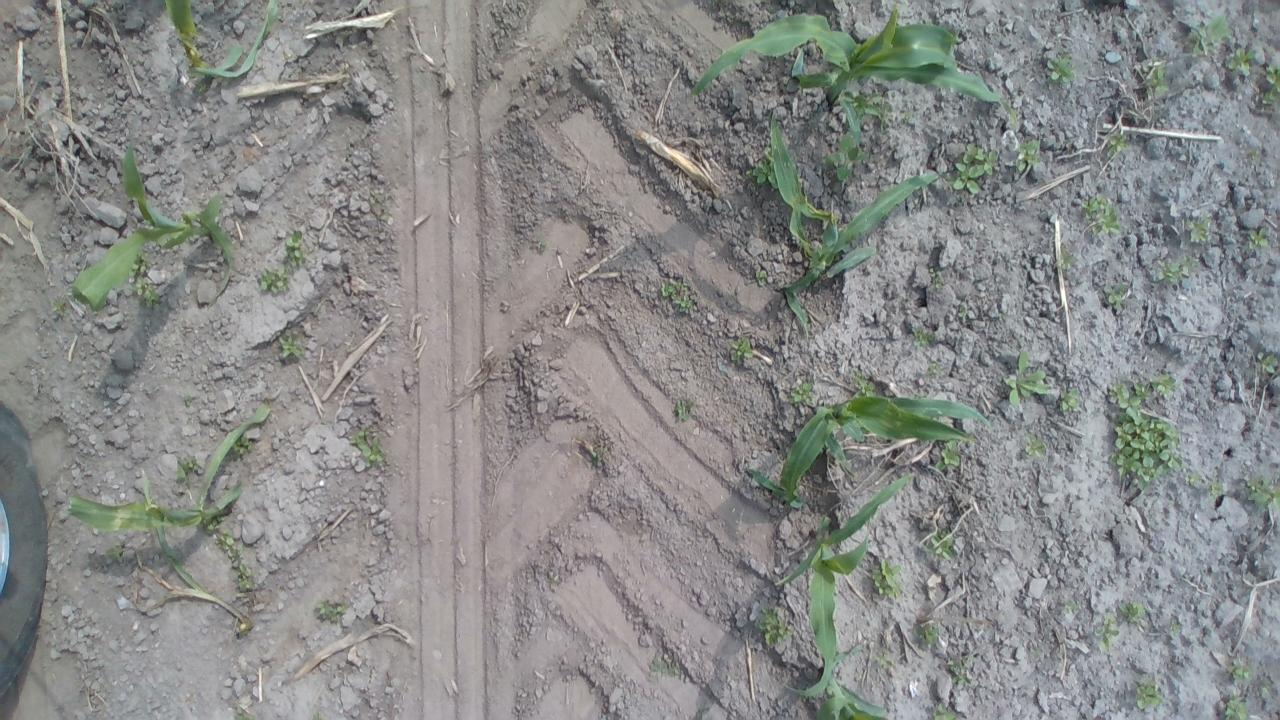Maize: (686, 6, 1030, 140), (761, 110, 946, 342), (65, 393, 274, 578), (775, 468, 921, 698), (62, 141, 249, 314), (752, 386, 998, 512), (158, 3, 284, 82), (804, 678, 898, 720)
Weeds: (1104, 371, 1186, 488), (1002, 350, 1051, 406), (854, 92, 920, 129), (952, 142, 998, 194), (826, 130, 870, 184), (1080, 192, 1122, 238), (1188, 17, 1234, 56), (868, 556, 904, 604), (582, 434, 624, 473), (756, 606, 793, 649), (350, 428, 394, 464), (1220, 43, 1265, 78), (656, 274, 692, 315), (942, 650, 980, 688), (1243, 472, 1280, 510), (1155, 253, 1198, 284), (1012, 136, 1044, 176), (1099, 278, 1132, 315), (271, 333, 309, 365), (131, 278, 170, 308), (745, 158, 784, 188), (1138, 64, 1170, 99), (650, 651, 686, 682), (282, 228, 312, 265), (232, 558, 261, 596), (172, 453, 206, 485), (256, 266, 296, 293), (934, 441, 966, 474), (213, 528, 242, 564), (1228, 660, 1262, 690), (922, 534, 958, 561), (313, 599, 347, 627), (1092, 614, 1120, 648), (1132, 680, 1162, 710), (786, 375, 815, 406), (915, 619, 944, 650), (846, 368, 876, 397), (1046, 54, 1074, 85), (671, 394, 699, 424), (1120, 599, 1150, 626), (1184, 217, 1210, 248), (1243, 224, 1271, 252), (1220, 692, 1248, 720), (1057, 383, 1083, 413), (1253, 350, 1280, 378), (372, 190, 394, 224), (1262, 64, 1280, 105), (725, 337, 752, 364), (909, 328, 942, 350), (1102, 128, 1129, 154), (232, 434, 260, 459), (1020, 433, 1050, 456), (924, 701, 960, 720), (1051, 250, 1082, 272), (919, 358, 950, 379), (45, 297, 68, 322), (1205, 478, 1226, 505), (871, 647, 898, 667), (1063, 596, 1084, 618), (1164, 620, 1186, 640), (1028, 644, 1050, 662), (232, 707, 260, 720), (956, 300, 974, 320), (928, 268, 946, 288), (1182, 472, 1203, 489), (754, 270, 774, 287), (178, 391, 198, 406), (136, 256, 152, 274)
